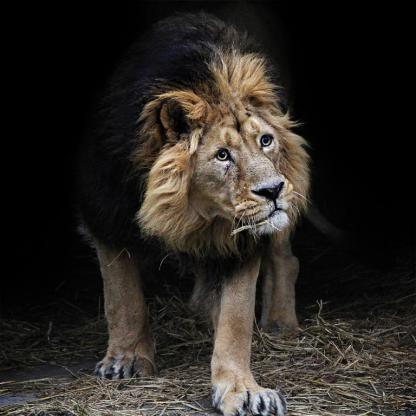lion: (115, 49, 318, 260)
